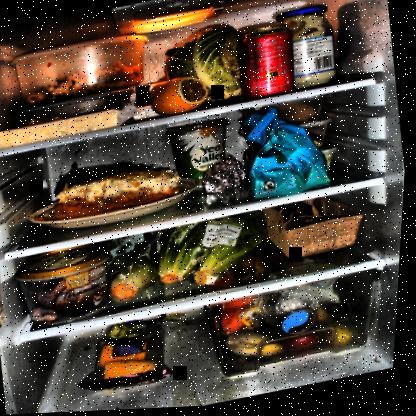cheese: (0, 106, 126, 151)
corn: (106, 354, 160, 381), (101, 338, 150, 367)
lemon: (148, 74, 211, 119), (326, 323, 362, 349)
lettuce: (165, 26, 243, 96)
tomato: (285, 335, 326, 355)
yoghurt: (165, 117, 236, 175)
